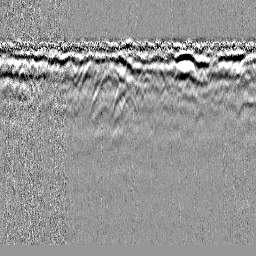cavity: (116, 90, 138, 124)
